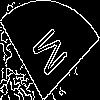M: (25, 25, 69, 86)
